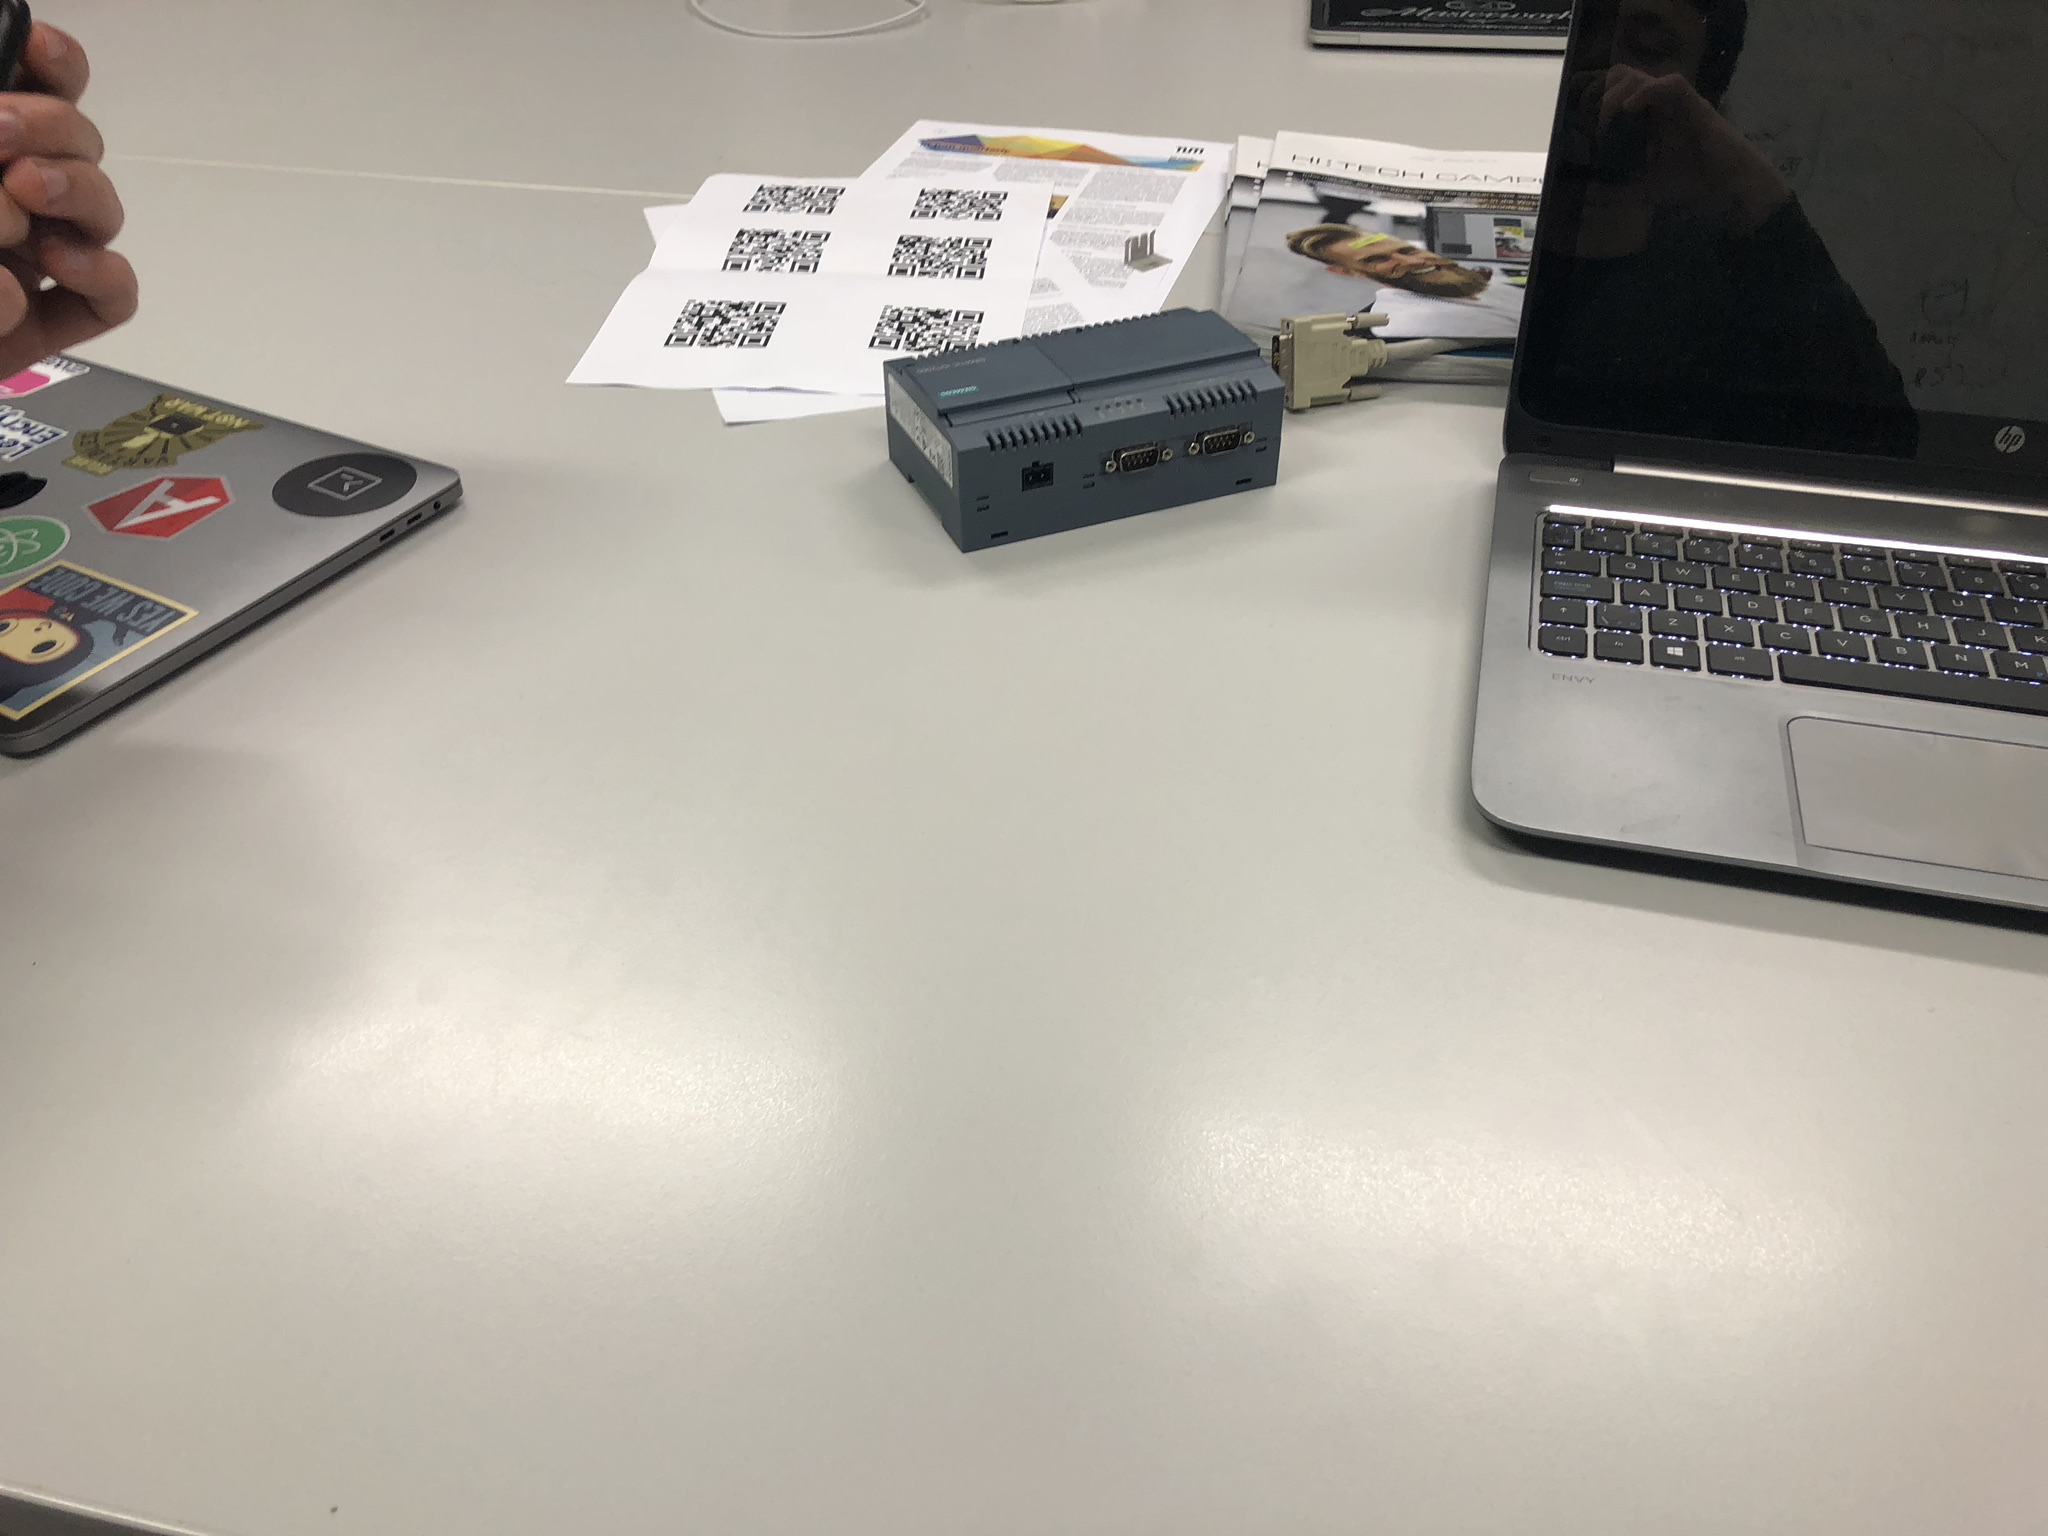device: (884, 307, 1285, 553)
